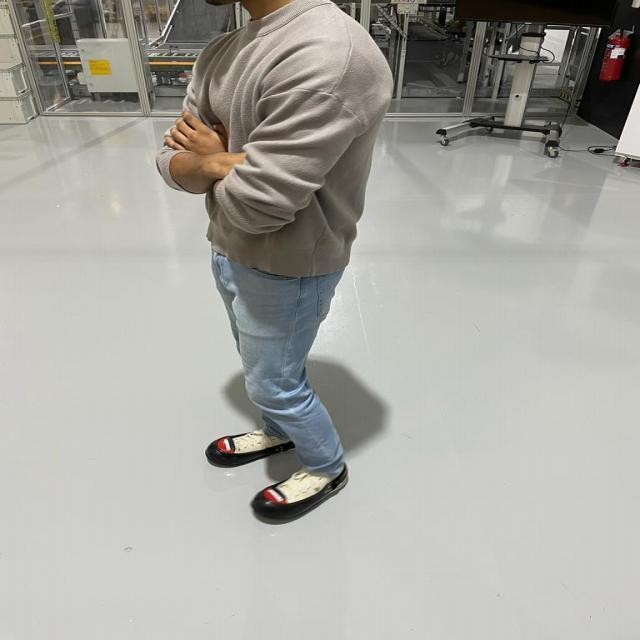shoes: (245, 463, 348, 531), (192, 425, 293, 467)
